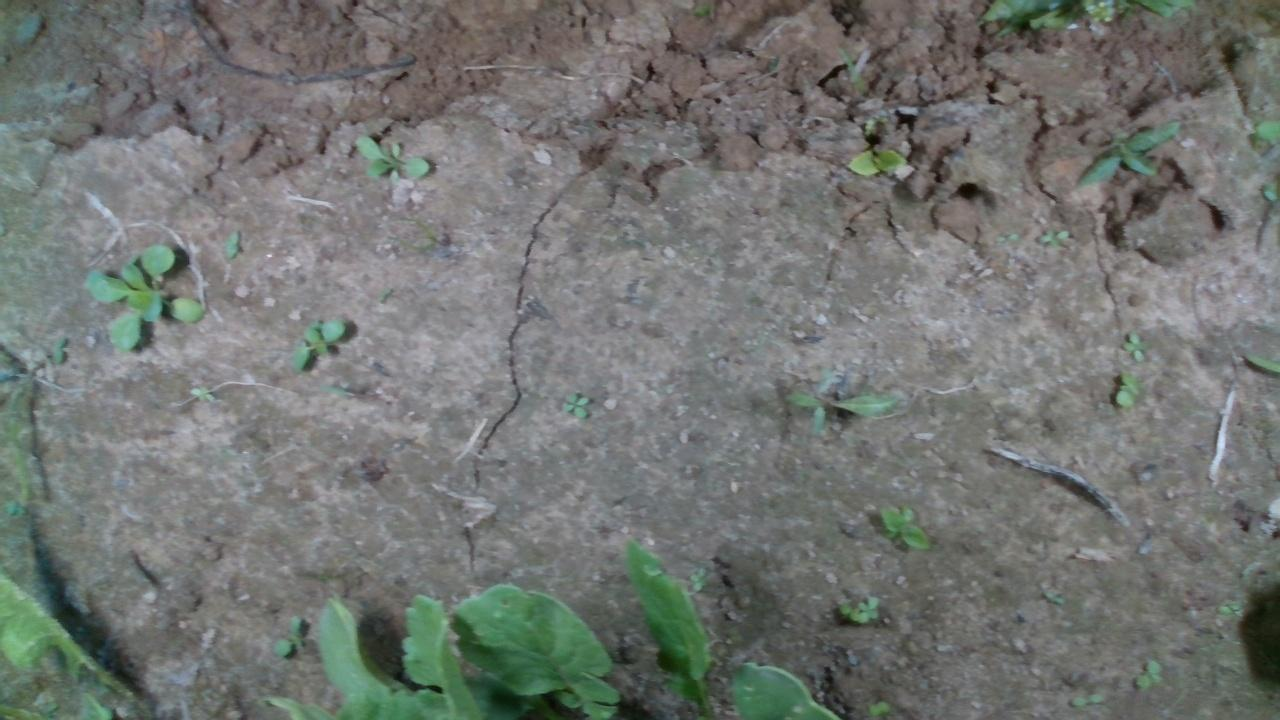weed: (1069, 115, 1184, 189), (351, 132, 431, 184), (289, 317, 345, 371), (876, 504, 931, 549), (843, 146, 911, 179), (271, 611, 300, 659), (1113, 371, 1139, 410), (559, 389, 589, 418), (1120, 330, 1147, 361), (1134, 658, 1161, 687), (1034, 226, 1067, 248), (47, 332, 67, 364), (1069, 689, 1102, 706), (688, 566, 708, 592), (866, 699, 890, 716), (991, 230, 1018, 243)
